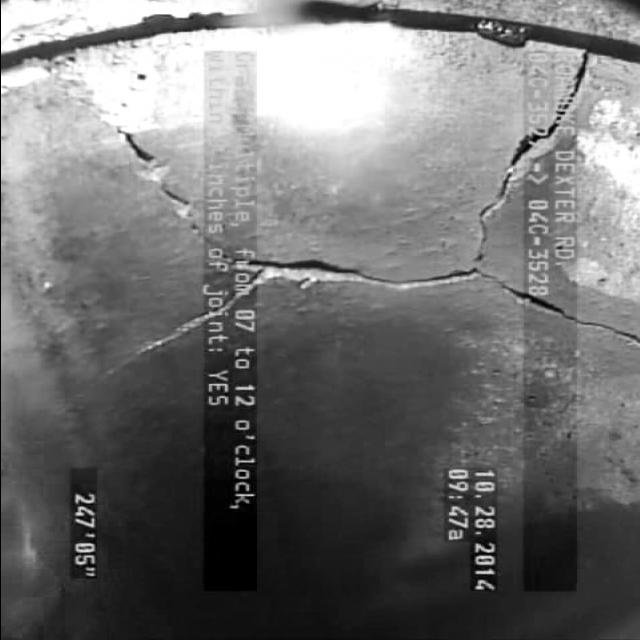Crack: (254, 70, 624, 356), (102, 86, 252, 362)
